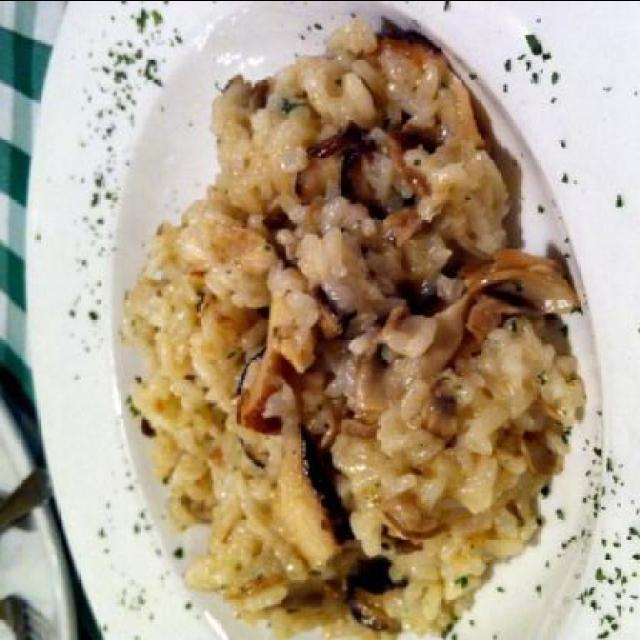Risotto: (122, 54, 564, 622)
